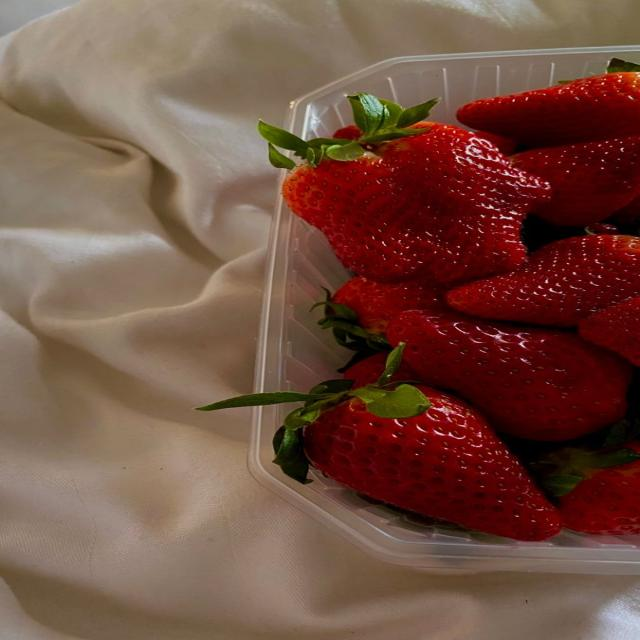strawberry: (260, 94, 549, 284), (275, 350, 560, 540), (387, 311, 631, 441), (447, 235, 639, 326), (458, 60, 639, 147), (314, 277, 447, 368), (512, 135, 639, 226), (534, 439, 639, 534), (332, 277, 446, 333), (579, 297, 639, 366), (476, 131, 517, 155), (476, 132, 517, 155), (612, 197, 639, 231), (391, 361, 418, 381), (333, 125, 362, 140), (586, 223, 621, 234)
